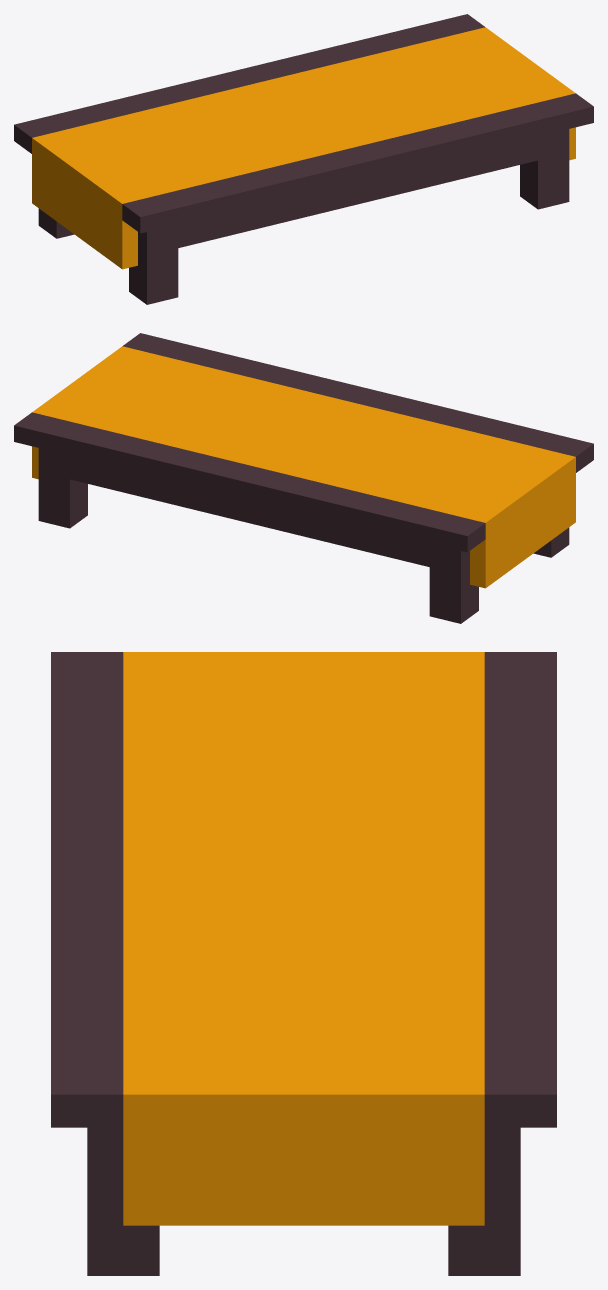
File: large_table_c_yellow.obj
3 views of the same model, one above another, from view 1: azimuth 30°, elevation 25°; view 2: azimuth 150°, elevation 25°; view 3: azimuth 270°, elevation 25° (orthographic). The views are drawn at different scales.
Size of the model in its own units: 2.9 by 0.6 by 1.4.
Materials: 1 (1 with a texture image).
